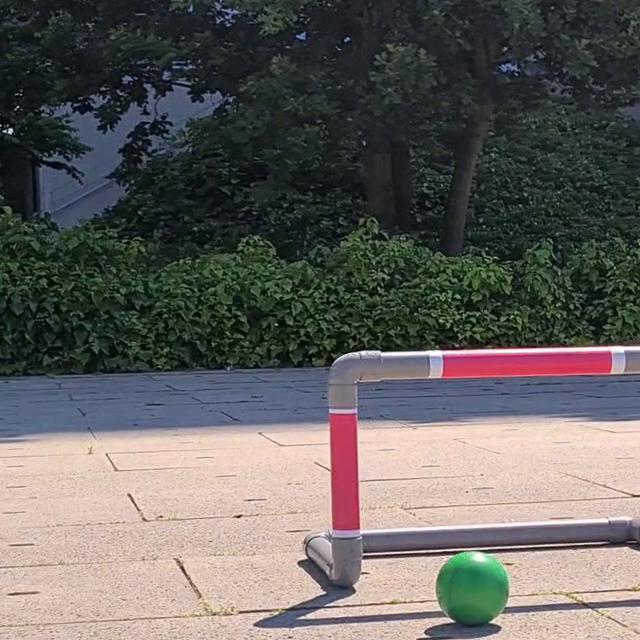ball: (432, 543, 514, 635)
